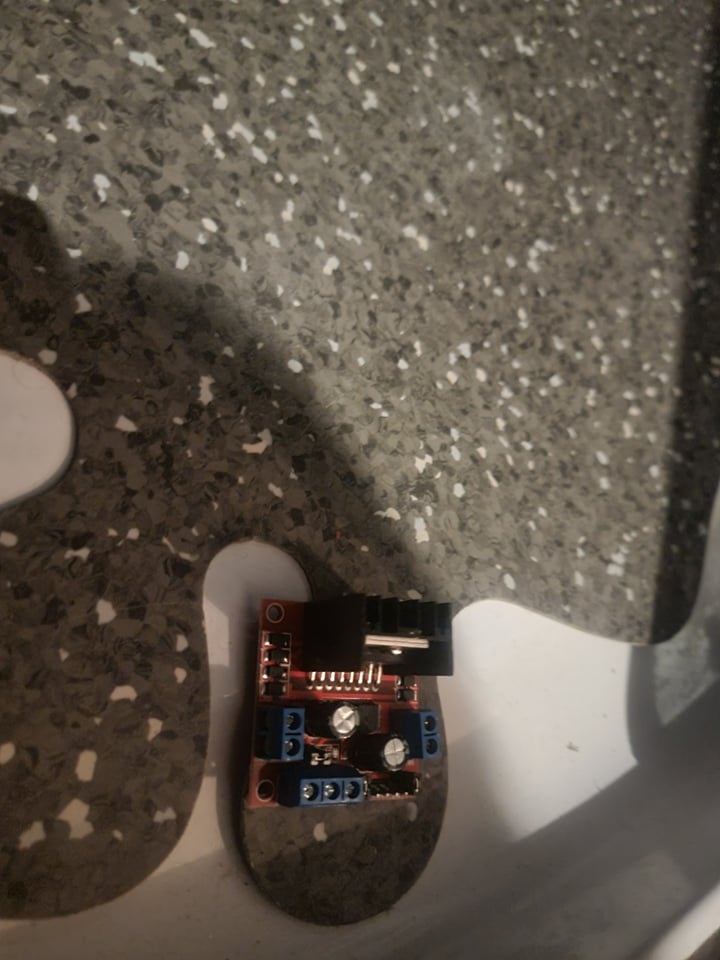MOTOR: (240, 596, 458, 817)
